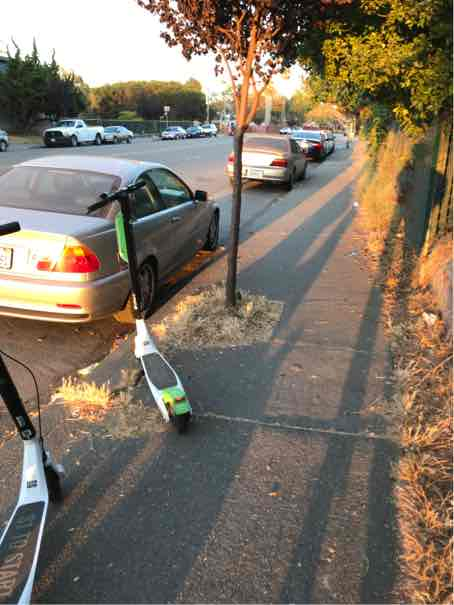scooter: (75, 176, 212, 438)
